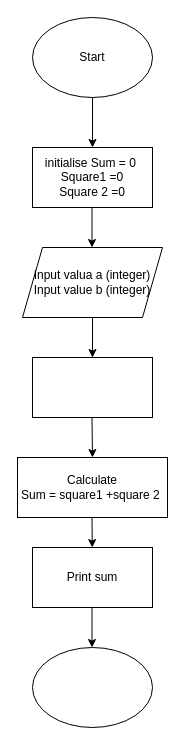
Some shapes in this 185 by 745 pixel diagram are drawn without their labels. The centre of each missing label's shape, as x and y in pixels:
Calculate square1 = a*a square2 = b*b: the point at 92,387
End: the point at 92,687
